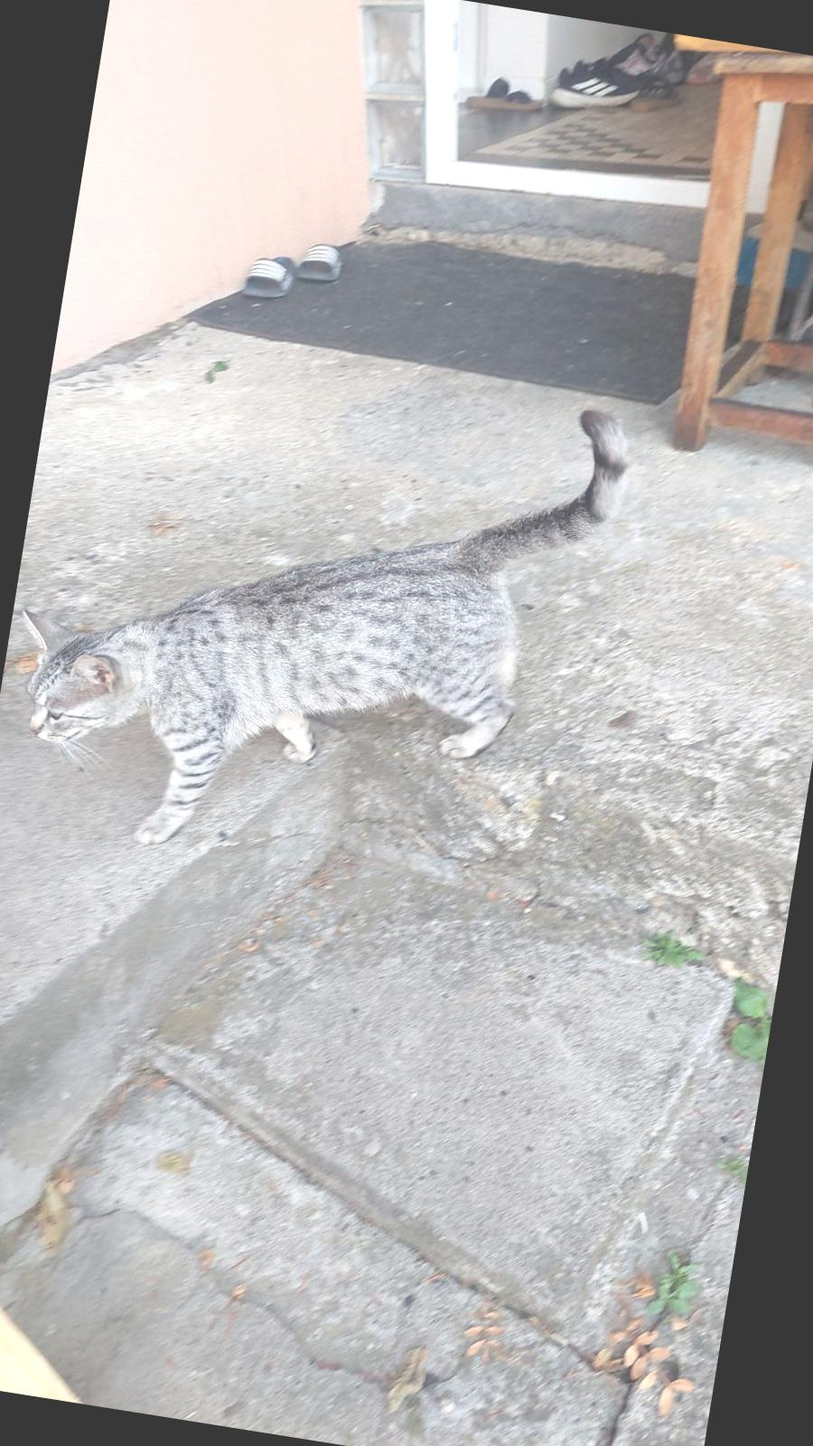macka: (0, 325, 637, 912)
